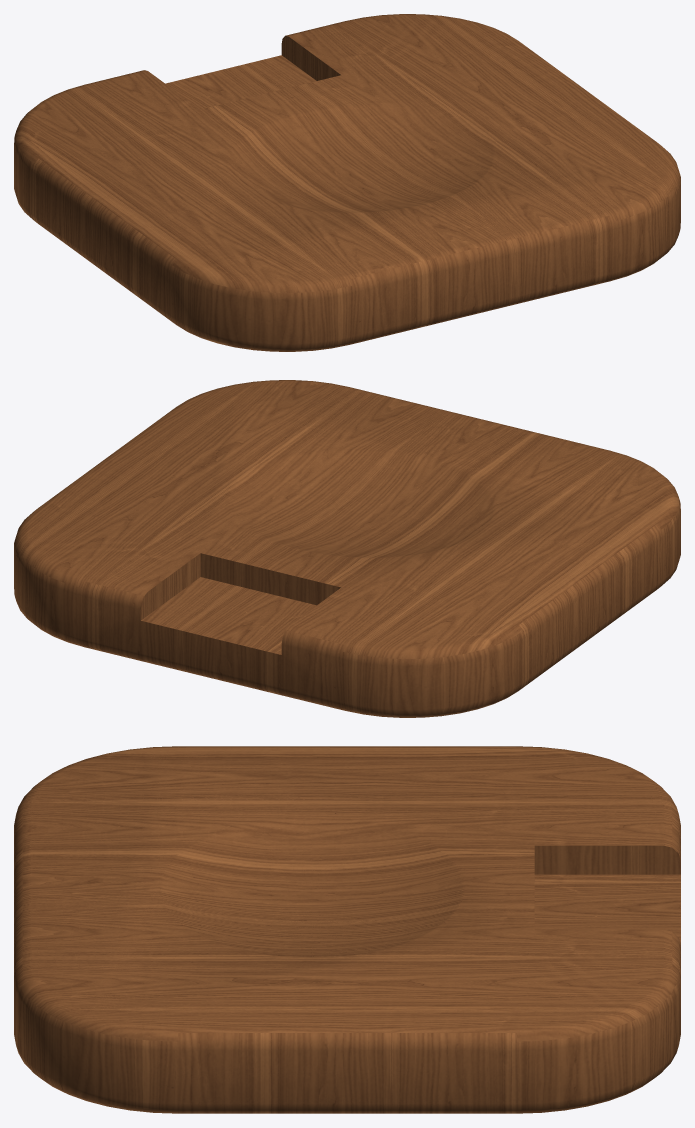
Rendered from wood_rest.glb.
The picture shows the model from 3 angles, top to bottom: view 1: azimuth 30°, elevation 25°; view 2: azimuth 150°, elevation 25°; view 3: azimuth 270°, elevation 25°; orthographic projection. The views are drawn at different scales.
Visible parts, largest first — view 1: Wooden Spatula Rest; view 2: Wooden Spatula Rest; view 3: Wooden Spatula Rest.
Part boxes in pixels (left/top/right/bottom): Wooden Spatula Rest: left=14, top=14, right=680, bottom=351; Wooden Spatula Rest: left=14, top=380, right=680, bottom=717; Wooden Spatula Rest: left=14, top=746, right=680, bottom=1113.
Size of the model in its own units: 0.119 by 0.016 by 0.114.
Materials: 1 (1 with a texture image).
